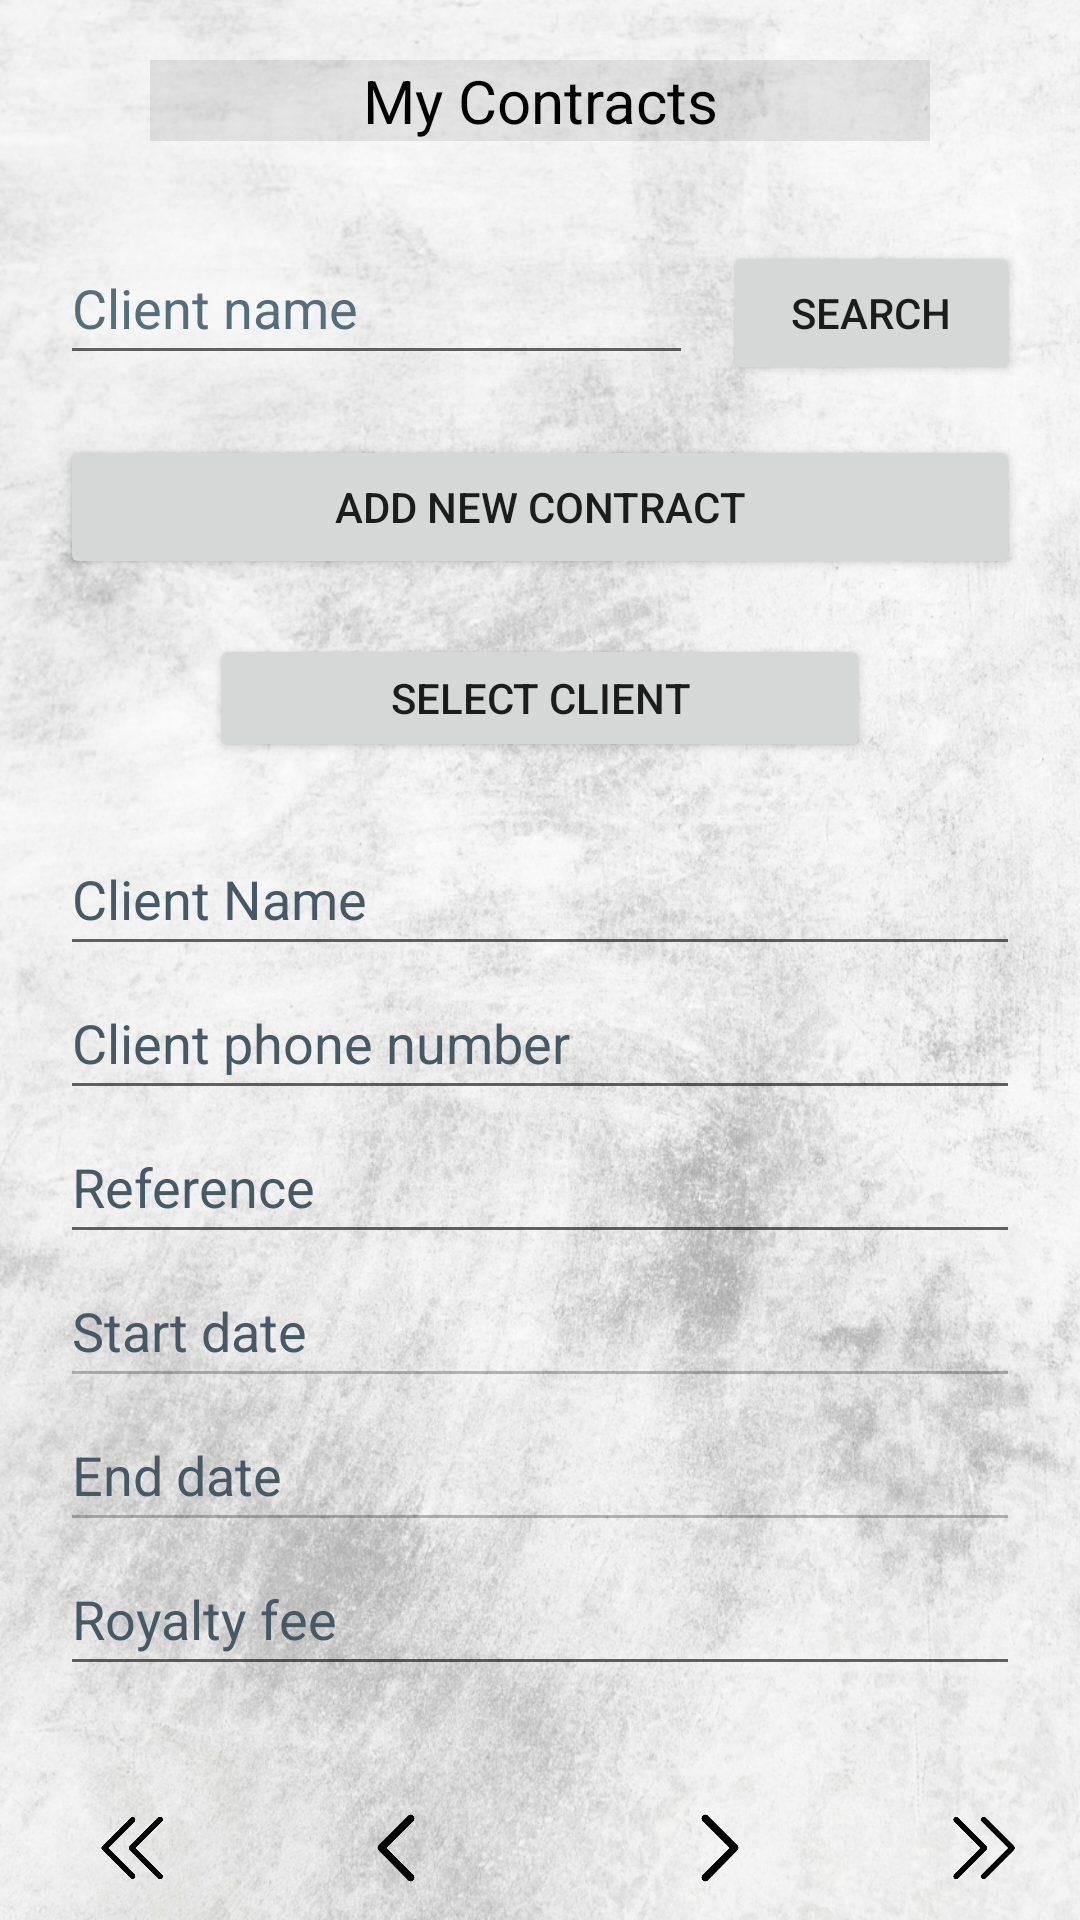

Screen size 1080px x 1920px. Icon name, then its box in pixels as {"left": x1, "top": y1, "right": x2, "bottom": y2}:
first: {"left": 101, "top": 1817, "right": 163, "bottom": 1879}
next: {"left": 701, "top": 1814, "right": 739, "bottom": 1882}
